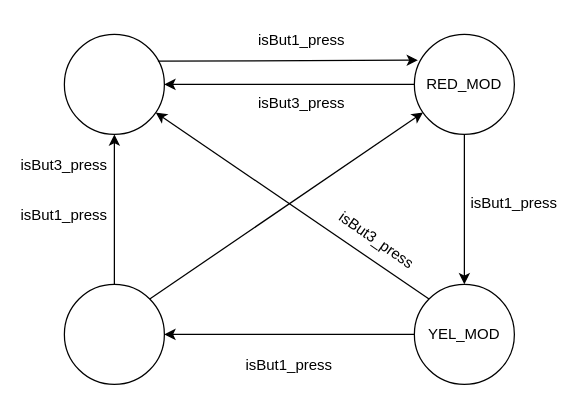
The diagram is 579 pixels wide and 406 high, and some of its shapes have lost their labels. Here are the shapes that lost their labels. From the top down, the centre of each, then its label:
point 113,83: INIT
point 113,333: GRE_MOD
